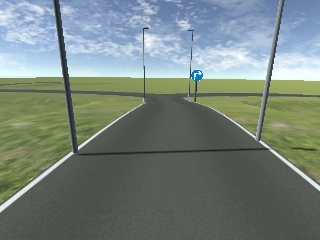right: (190, 71, 204, 82)
